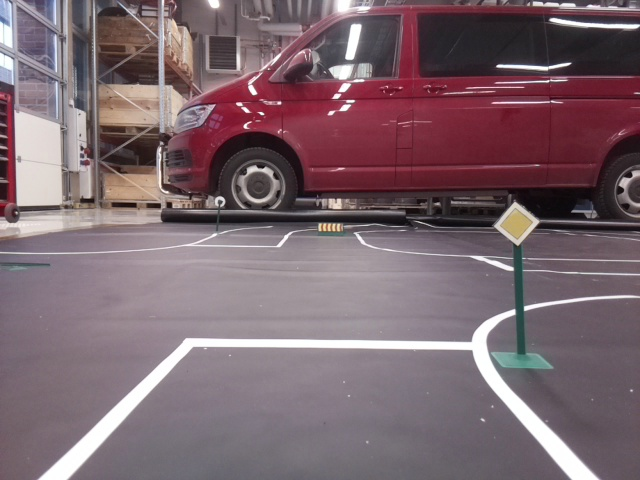Priority: (490, 199, 542, 244)
